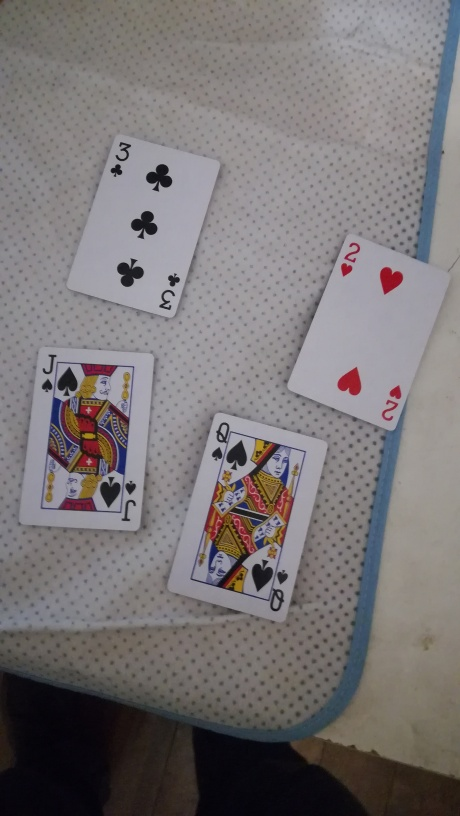ht j: (16, 342, 156, 539)
ht q: (167, 408, 332, 633)
hx 2: (285, 221, 456, 435)
mh 3: (66, 128, 225, 328)
